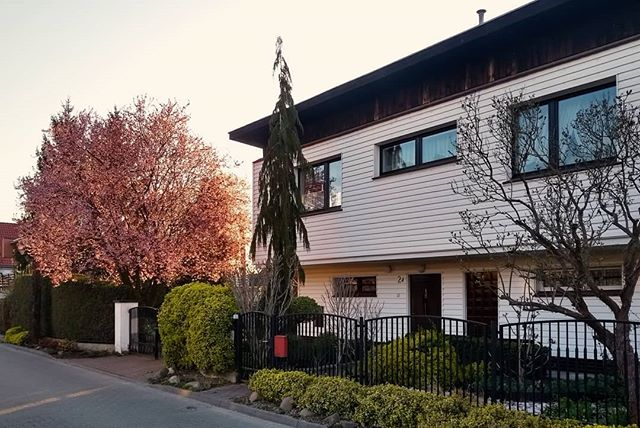building: (263, 1, 640, 333)
sky: (1, 1, 365, 106)
tree: (452, 85, 640, 391), (26, 102, 247, 293), (240, 41, 315, 336)
